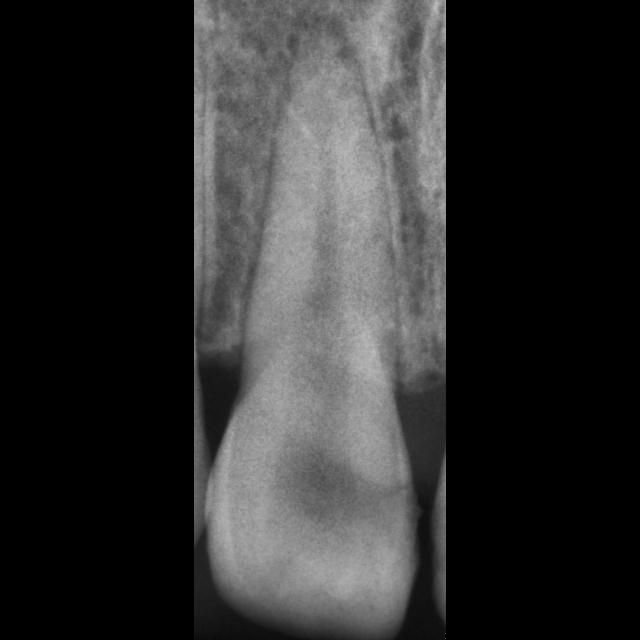tooth: (205, 15, 417, 640)
